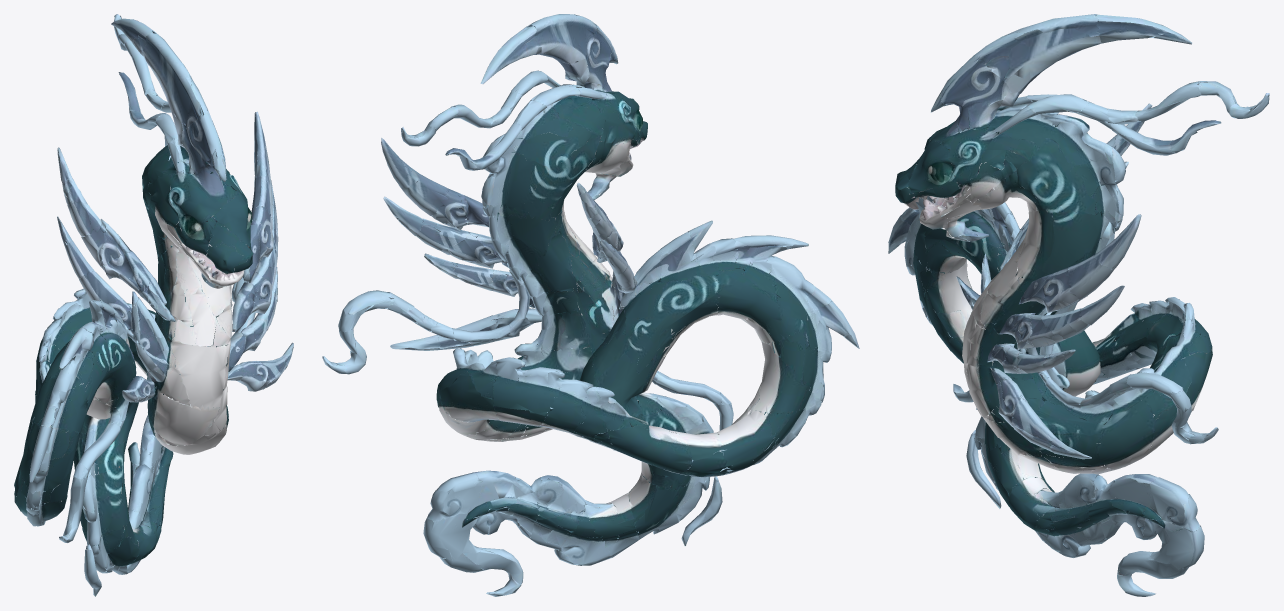
3 renders of one model, left to right at view 1: azimuth 30°, elevation 25°; view 2: azimuth 150°, elevation 25°; view 3: azimuth 270°, elevation 25°, orthographic. The views are drawn at different scales.
Visible parts, largest first — view 1: Mesh_0; view 2: Mesh_0; view 3: Mesh_0.
Boxes of the visible parts, x1,y1,x2,y2 form: Mesh_0: [14, 14, 293, 596]; Mesh_0: [322, 14, 859, 596]; Mesh_0: [888, 14, 1269, 596].
Bounding box in the file's own units: 1.35 × 1.9 × 1.14.
Materials: 1 (1 with a texture image).
